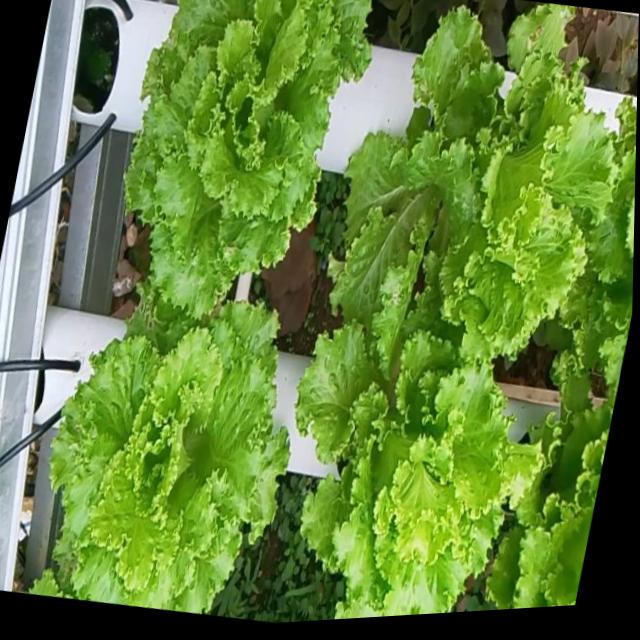Mature: (326, 6, 604, 362), (39, 275, 287, 613), (126, 0, 370, 321), (293, 323, 537, 620)
